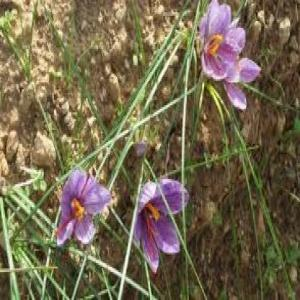Saffron: (132, 177, 187, 272), (56, 168, 111, 248), (199, 0, 246, 78)
